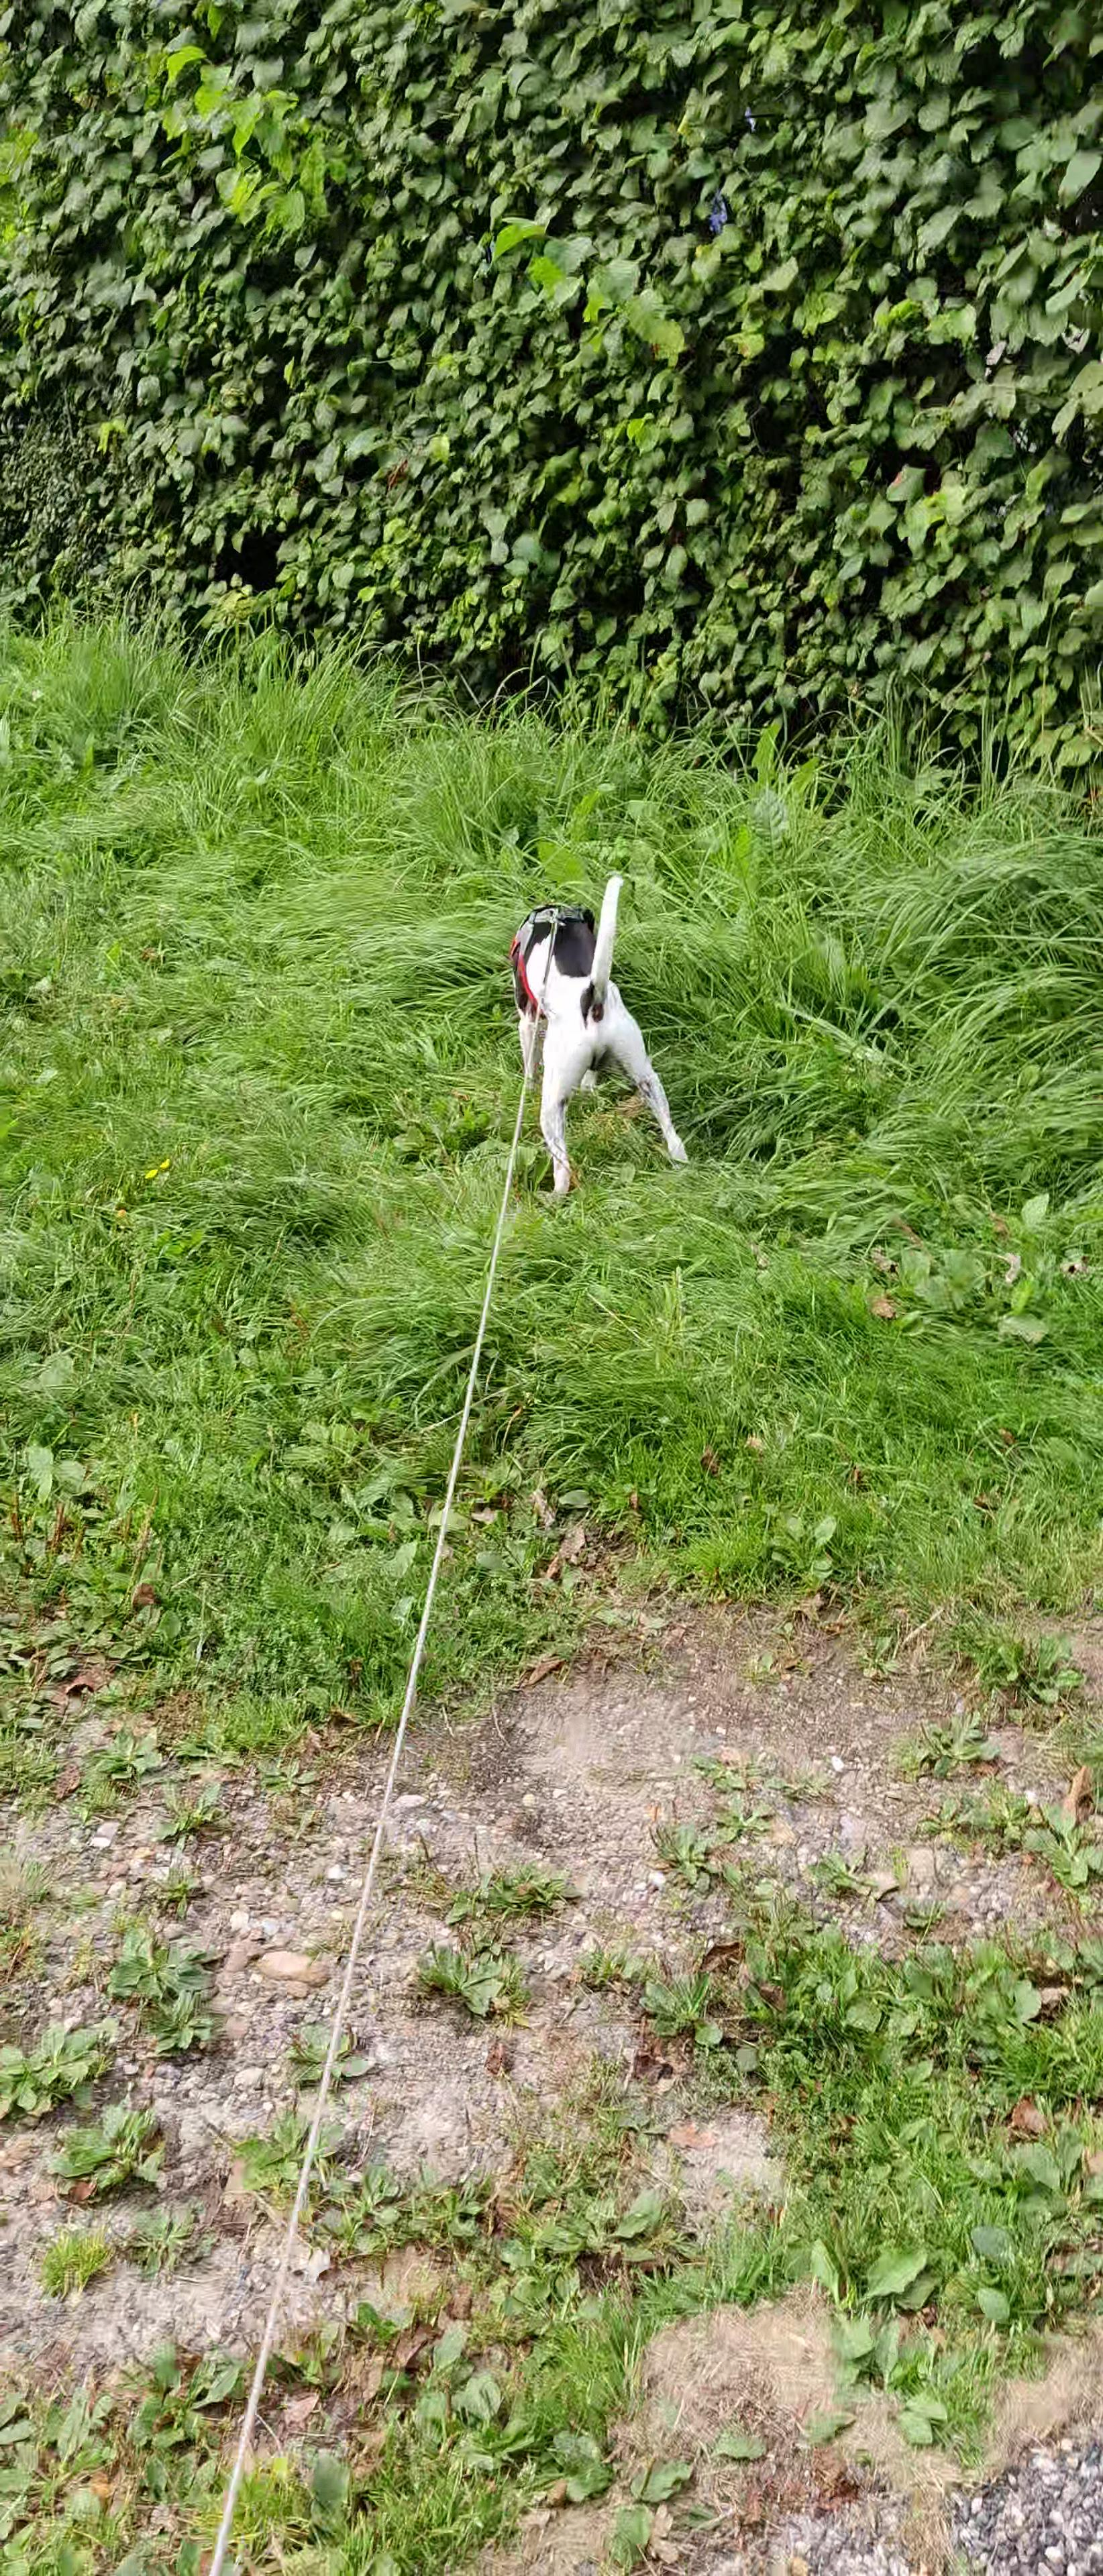Dog: (475, 858, 720, 1214)
